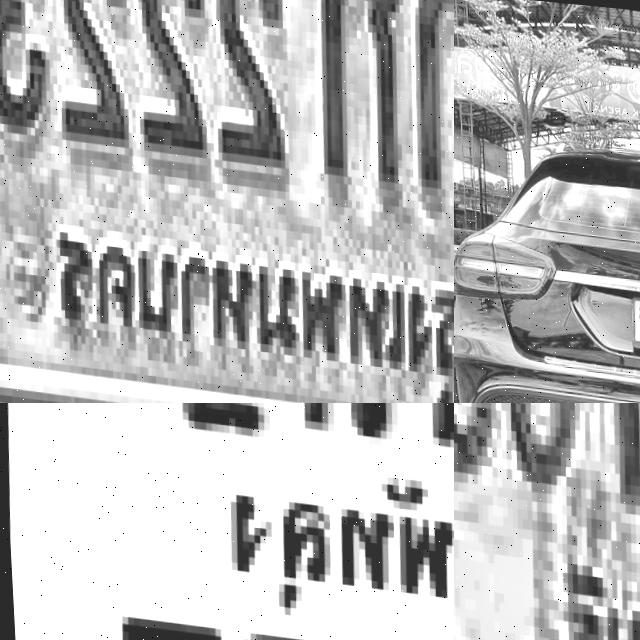license-plate: (0, 0, 454, 403), (0, 403, 454, 640), (454, 403, 640, 640)
